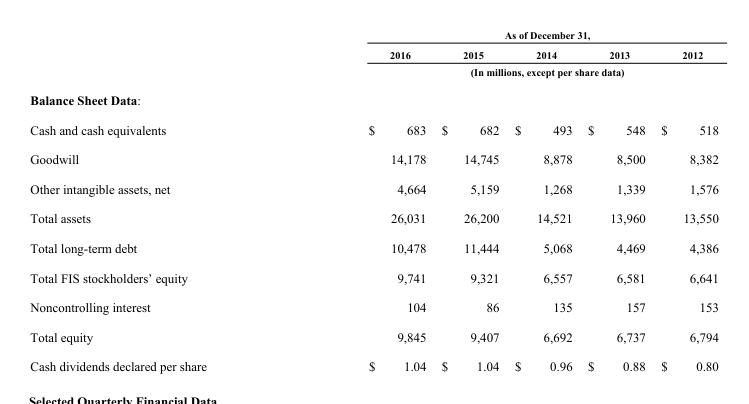table: (29, 28, 717, 373)
table column: (29, 28, 286, 373), (286, 28, 433, 373), (433, 28, 506, 373), (506, 28, 579, 373), (579, 28, 652, 373), (652, 28, 717, 373)
table column header: (29, 28, 717, 84)
table projected row header: (29, 84, 717, 114)
table row: (29, 84, 717, 114), (29, 114, 717, 144), (29, 173, 717, 203), (29, 232, 717, 262), (29, 262, 717, 292), (29, 321, 717, 351), (29, 144, 717, 173), (29, 203, 717, 232), (29, 292, 717, 321), (29, 351, 717, 373), (29, 63, 717, 84), (29, 44, 717, 63), (29, 28, 717, 44)
table spanning cell: (286, 63, 717, 84), (286, 28, 717, 44)
